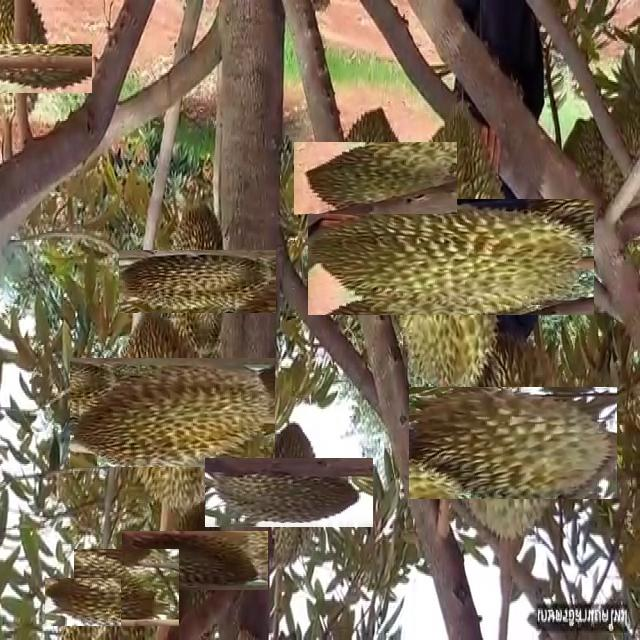durian: (350, 156, 552, 357), (433, 362, 593, 523), (94, 333, 251, 491), (229, 434, 349, 552), (316, 118, 434, 236), (142, 226, 253, 336), (143, 509, 247, 613), (81, 542, 173, 633), (0, 23, 71, 115), (51, 570, 114, 633)
